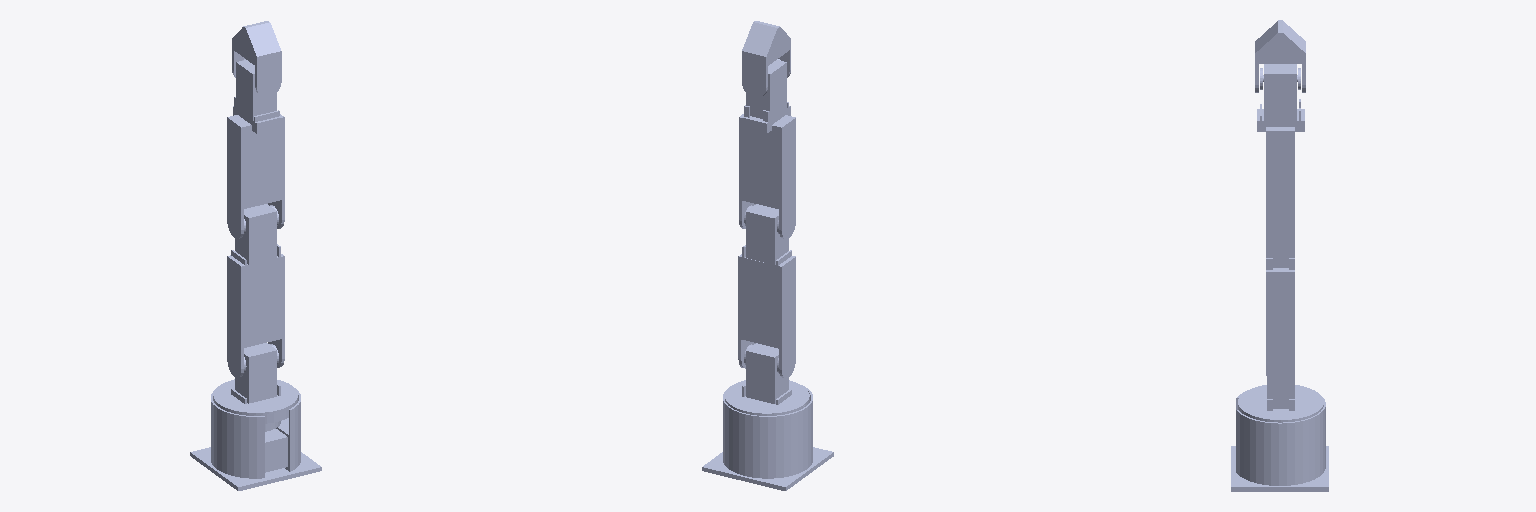
The robot description file, URDF, robot "URDF_V2":
<?xml version="1.0" encoding="utf-8"?>
<!-- This URDF was automatically created by SolidWorks to URDF Exporter! Originally created by Stephen Brawner (brawner@gmail.com) 
     Commit Version: 1.6.0-4-g7f85cfe  Build Version: 1.6.7995.38578
     For more information, please see http://wiki.ros.org/sw_urdf_exporter -->
<robot
  name="URDF_V2">
  <link
    name="base_link">
    <inertial>
      <origin
        xyz="6.5506E-05 0.0015009 0.020472"
        rpy="0 0 0" />
      <mass
        value="0.20537" />
      <inertia
        ixx="0.0001168"
        ixy="-1.3436E-21"
        ixz="-7.2685E-21"
        iyy="0.00013342"
        iyz="-2.2758E-06"
        izz="0.00017603" />
    </inertial>
    <visual>
      <origin
        xyz="0 0 0"
        rpy="0 0 0" />
      <geometry>
        <mesh
          filename="package://facadebot_description/meshes/v2/base_link.STL" />
      </geometry>
      <material
        name="">
        <color
          rgba="0.79216 0.81961 0.93333 1" />
      </material>
    </visual>
    <collision>
      <origin
        xyz="0 0 0"
        rpy="0 0 0" />
      <geometry>
        <mesh
          filename="package://facadebot_description/meshes/v2/base_link.STL" />
      </geometry>
    </collision>
  </link>
  <link
    name="link_1">
    <inertial>
      <origin
        xyz="-1.7923E-05 -4.4959E-05 0.026896"
        rpy="0 0 0" />
      <mass
        value="0.10742" />
      <inertia
        ixx="3.0472E-05"
        ixy="-2.5011E-22"
        ixz="-1.6625E-07"
        iyy="3.1459E-05"
        iyz="-3.8538E-22"
        izz="4.467E-05" />
    </inertial>
    <visual>
      <origin
        xyz="0 0 0"
        rpy="0 0 0" />
      <geometry>
        <mesh
          filename="package://facadebot_description/meshes/v2/link_1.STL" />
      </geometry>
      <material
        name="">
        <color
          rgba="0.79216 0.81961 0.93333 1" />
      </material>
    </visual>
    <collision>
      <origin
        xyz="0 0 0"
        rpy="0 0 0" />
      <geometry>
        <mesh
          filename="package://facadebot_description/meshes/v2/link_1.STL" />
      </geometry>
    </collision>
  </link>
  <joint
    name="joint_1"
    type="continuous">
    <origin
      xyz="0.00039 0.00089 0.0403"
      rpy="0 0 0" />
    <parent
      link="base_link" />
    <child
      link="link_1" />
    <axis
      xyz="0 0 -1" />
  </joint>
  <link
    name="link_2">
    <inertial>
      <origin
        xyz="0.075359 -3.7896E-05 4.2545E-05"
        rpy="0 0 0" />
      <mass
        value="0.12744" />
      <inertia
        ixx="2.5339E-05"
        ixy="-3.5405E-21"
        ixz="1.4271E-07"
        iyy="8.5738E-05"
        iyz="-1.7196E-20"
        izz="7.3468E-05" />
    </inertial>
    <visual>
      <origin
        xyz="0 0 0"
        rpy="0 0 0" />
      <geometry>
        <mesh
          filename="package://facadebot_description/meshes/v2/link_2.STL" />
      </geometry>
      <material
        name="">
        <color
          rgba="0.79216 0.81961 0.93333 1" />
      </material>
    </visual>
    <collision>
      <origin
        xyz="0 0 0"
        rpy="0 0 0" />
      <geometry>
        <mesh
          filename="package://facadebot_description/meshes/v2/link_2.STL" />
      </geometry>
    </collision>
  </link>
  <joint
    name="joint_2"
    type="continuous">
    <origin
      xyz="0 -0.00014 0.06111"
      rpy="0 -1.5708 0" />
    <parent
      link="link_1" />
    <child
      link="link_2" />
    <axis
      xyz="0 0 1" />
  </joint>
  <link
    name="link_3">
    <inertial>
      <origin
        xyz="0.078062 -1.9266E-05 -0.00017825"
        rpy="0 0 0" />
      <mass
        value="0.13481" />
      <inertia
        ixx="2.7111E-05"
        ixy="1.7533E-07"
        ixz="3.1947E-07"
        iyy="9.833E-05"
        iyz="-5.1621E-10"
        izz="8.9024E-05" />
    </inertial>
    <visual>
      <origin
        xyz="0 0 0"
        rpy="0 0 0" />
      <geometry>
        <mesh
          filename="package://facadebot_description/meshes/v2/link_3.STL" />
      </geometry>
      <material
        name="">
        <color
          rgba="0.79216 0.81961 0.93333 1" />
      </material>
    </visual>
    <collision>
      <origin
        xyz="0 0 0"
        rpy="0 0 0" />
      <geometry>
        <mesh
          filename="package://facadebot_description/meshes/v2/link_3.STL" />
      </geometry>
    </collision>
  </link>
  <joint
    name="joint_3"
    type="continuous">
    <origin
      xyz="0.13511 -0.00014 0"
      rpy="0 0 0" />
    <parent
      link="link_2" />
    <child
      link="link_3" />
    <axis
      xyz="0 0 1" />
  </joint>
  <link
    name="link_4">
    <inertial>
      <origin
        xyz="0.027076 2.3636E-17 -0.0001"
        rpy="0 0 0" />
      <mass
        value="0.034066" />
      <inertia
        ixx="7.4962E-06"
        ixy="-9.5984E-22"
        ixz="1.6078E-21"
        iyy="1.0975E-05"
        iyz="1.8049E-21"
        izz="6.9793E-06" />
    </inertial>
    <visual>
      <origin
        xyz="0 0 0"
        rpy="0 0 0" />
      <geometry>
        <mesh
          filename="package://facadebot_description/meshes/v2/link_4.STL" />
      </geometry>
      <material
        name="">
        <color
          rgba="0.79216 0.81961 0.93333 1" />
      </material>
    </visual>
    <collision>
      <origin
        xyz="0 0 0"
        rpy="0 0 0" />
      <geometry>
        <mesh
          filename="package://facadebot_description/meshes/v2/link_4.STL" />
      </geometry>
    </collision>
  </link>
  <joint
    name="joint_4"
    type="continuous">
    <origin
      xyz="0.14011 0 -0.00076"
      rpy="-1.5708 0 0" />
    <parent
      link="link_3" />
    <child
      link="link_4" />
    <axis
      xyz="0 0 1" />
  </joint>
</robot>

--- Render facts (derived) ---
3 views of the same robot in one strip: view 1: azimuth 30°, elevation 25°; view 2: azimuth 150°, elevation 25°; view 3: azimuth 270°, elevation 25° (orthographic).
Robot: URDF_V2 — 5 links, 4 joints (4 continuous); root link base_link; default pose: every joint at zero.
Links seen in each view (by area): view 1: link_2, link_3, base_link, link_1, link_4; view 2: link_2, link_3, base_link, link_1, link_4; view 3: base_link, link_3, link_2, link_1, link_4.
Boxes of the visible links, <box> form: link_2: <box>227,204,284,377</box>; link_3: <box>227,59,284,238</box>; base_link: <box>190,389,321,490</box>; link_1: <box>213,343,297,431</box>; link_4: <box>232,21,281,97</box>; link_2: <box>738,204,795,378</box>; link_3: <box>739,59,795,238</box>; base_link: <box>702,385,833,490</box>; link_1: <box>725,343,809,415</box>; link_4: <box>742,21,790,97</box>; base_link: <box>1231,391,1328,491</box>; link_3: <box>1257,64,1304,247</box>; link_2: <box>1266,236,1294,388</box>; link_1: <box>1238,380,1323,422</box>; link_4: <box>1255,20,1305,92</box>.
Bounding box of the posed robot: 0.085 × 0.085 × 0.4266 m (x, y, z).
Meshes: 5 distinct files referenced, 5 mesh visuals loaded (5 binary STL).
